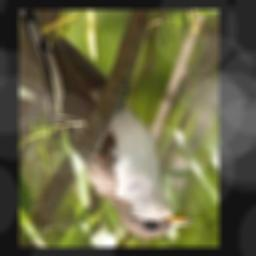Cuckoo: (19, 9, 194, 239)
